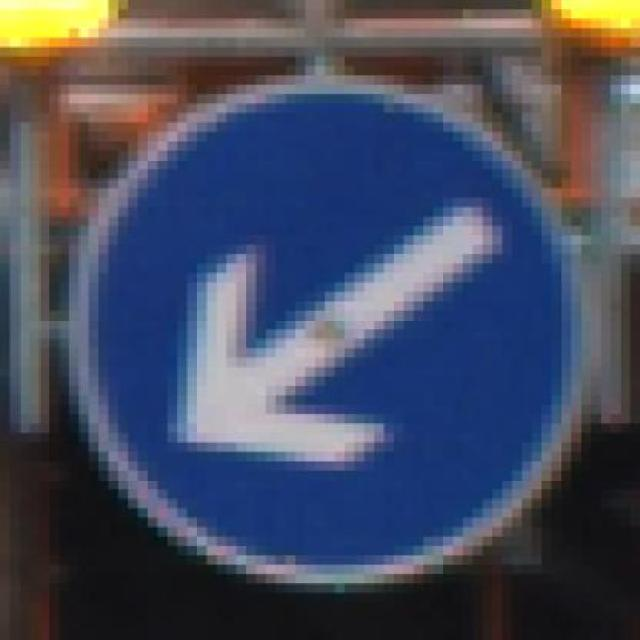Keep-Left: (69, 65, 591, 593)
